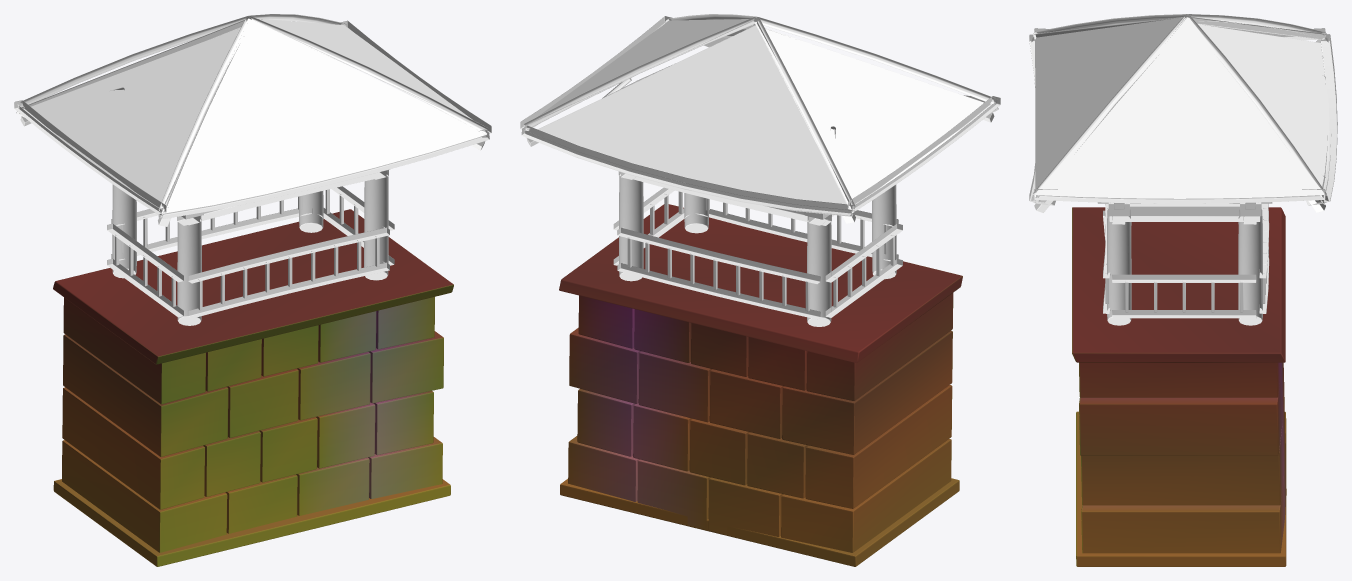
File: corner-tower.glb
3 renders of one model, left to right at view 1: azimuth 30°, elevation 25°; view 2: azimuth 150°, elevation 25°; view 3: azimuth 270°, elevation 25°, orthographic.
Visible parts, largest first — view 1: corner-tower; view 2: corner-tower; view 3: corner-tower.
Part boxes in pixels (box(x1,y1,x2,y2)): corner-tower: box(14, 14, 491, 566); corner-tower: box(520, 14, 1000, 566); corner-tower: box(1029, 14, 1337, 566).
Size of the model in its own units: 5.58 by 7.59 by 4.42.
